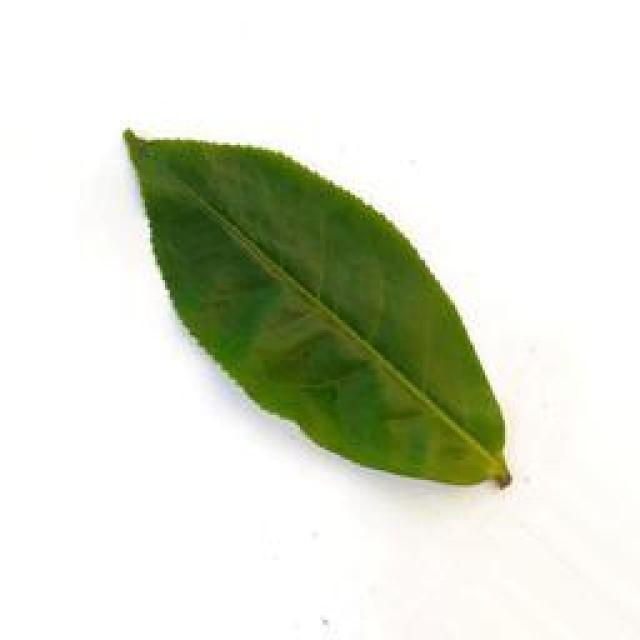Healthy: (106, 116, 528, 509)
